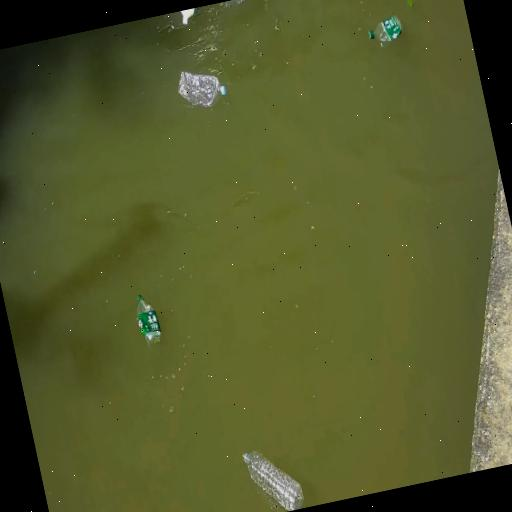plastic: (244, 452, 304, 510), (179, 71, 226, 107), (137, 294, 161, 346), (369, 15, 402, 43), (182, 8, 195, 25)
